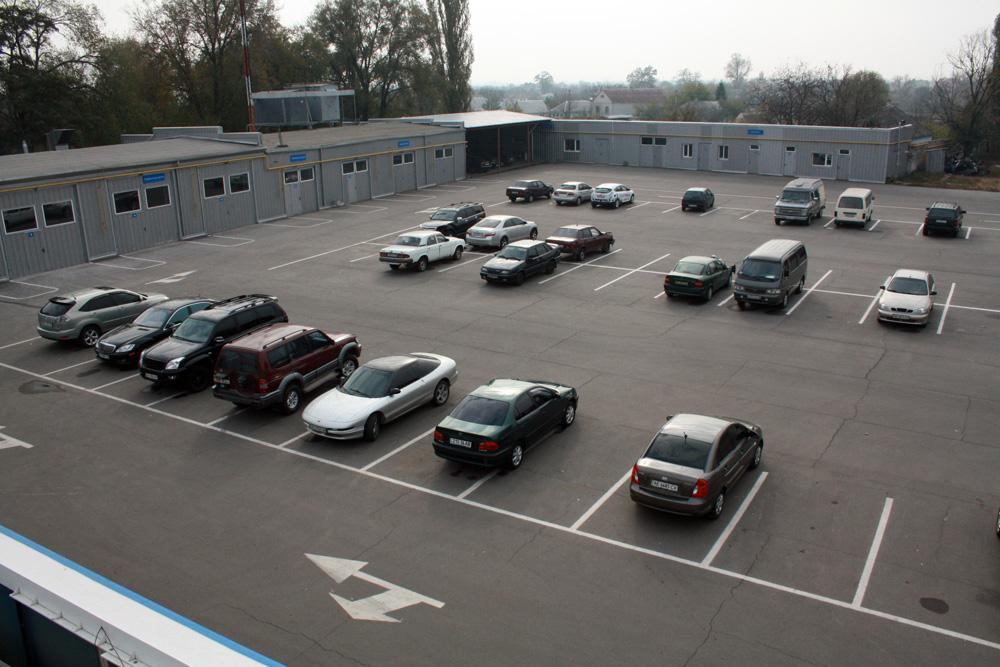empty: (614, 414, 760, 527), (423, 377, 572, 472), (309, 353, 450, 447), (220, 323, 353, 418), (143, 295, 274, 383), (28, 282, 140, 342), (722, 242, 813, 312), (108, 300, 193, 360), (868, 267, 949, 326), (654, 257, 741, 306), (479, 240, 567, 285), (378, 228, 465, 270), (764, 177, 827, 227), (542, 222, 621, 257), (464, 214, 532, 250), (832, 188, 881, 231), (920, 203, 970, 240), (430, 200, 494, 228), (590, 182, 641, 211), (501, 180, 550, 205), (676, 187, 717, 215), (554, 181, 595, 206)
occupied: (885, 538, 996, 608), (756, 502, 861, 566), (553, 450, 615, 494), (953, 313, 997, 342), (813, 294, 862, 319), (963, 281, 1000, 306), (560, 272, 605, 291), (343, 240, 377, 264), (833, 270, 873, 289), (626, 275, 665, 294), (712, 203, 744, 222), (613, 252, 651, 266), (973, 229, 1000, 248), (888, 220, 916, 238), (641, 203, 669, 216), (747, 211, 775, 224)
